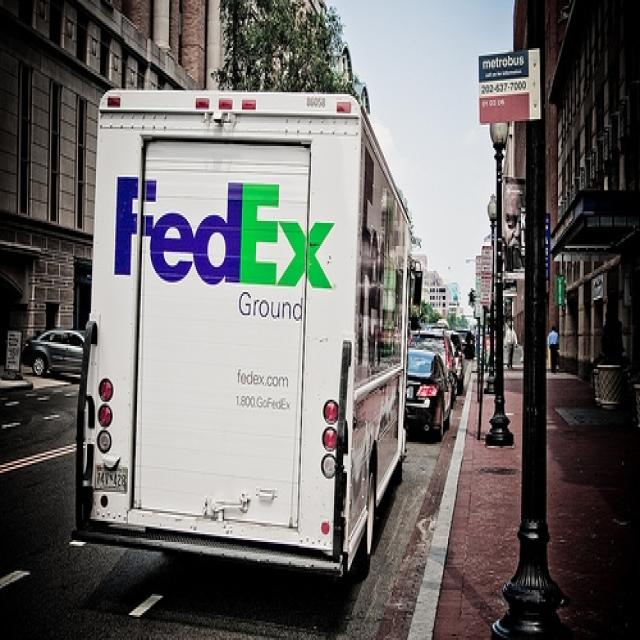fedex: (114, 174, 340, 297)
